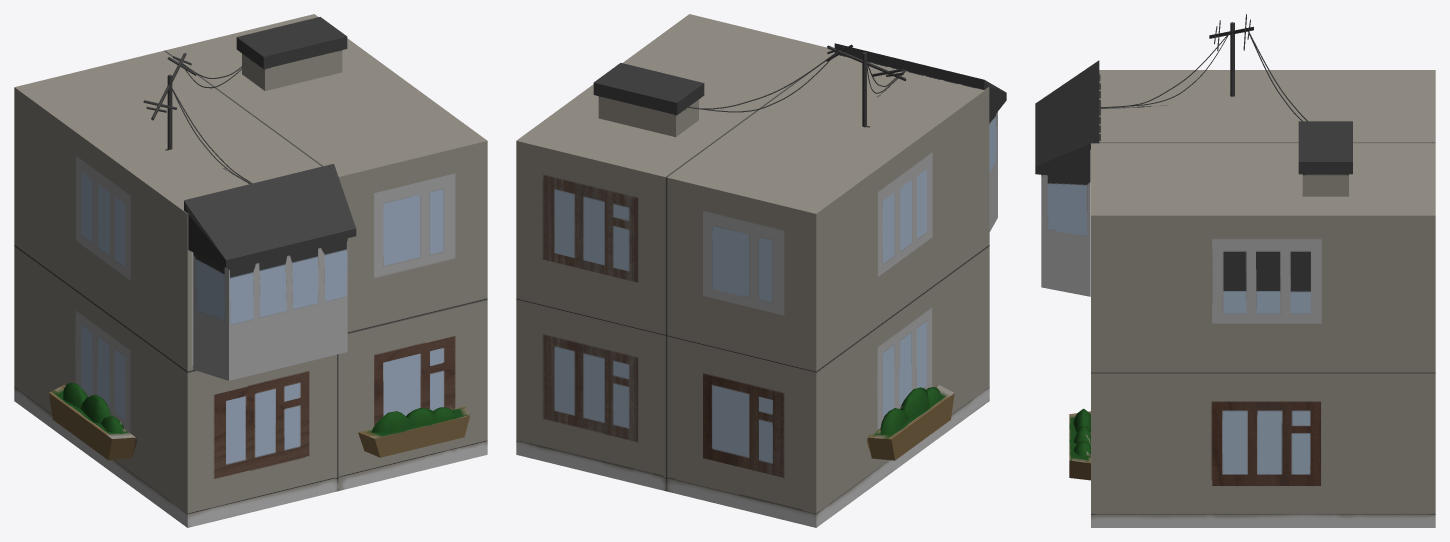
File: Brezhnev_House.fbx
3 views of the same model, side by side, from view 1: azimuth 30°, elevation 25°; view 2: azimuth 150°, elevation 25°; view 3: azimuth 270°, elevation 25° (orthographic).
Visible parts, largest first — view 1: House_Low_9; view 2: House_Low_9; view 3: House_Low_9.
Part boxes in pixels (box(x1,y1,x2,y2)): House_Low_9: box(14, 14, 487, 527); House_Low_9: box(516, 14, 1006, 527); House_Low_9: box(1035, 14, 1435, 527).
Bounding box in the file's own units: 27.39 × 32.63 × 29.78.
